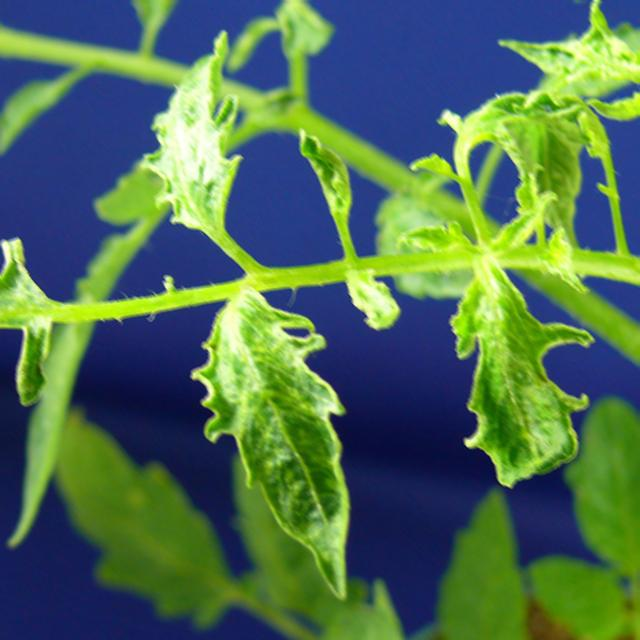Tomato leaf mosaic virus: (175, 286, 383, 608), (416, 262, 600, 505), (133, 21, 254, 241), (0, 239, 82, 396)
